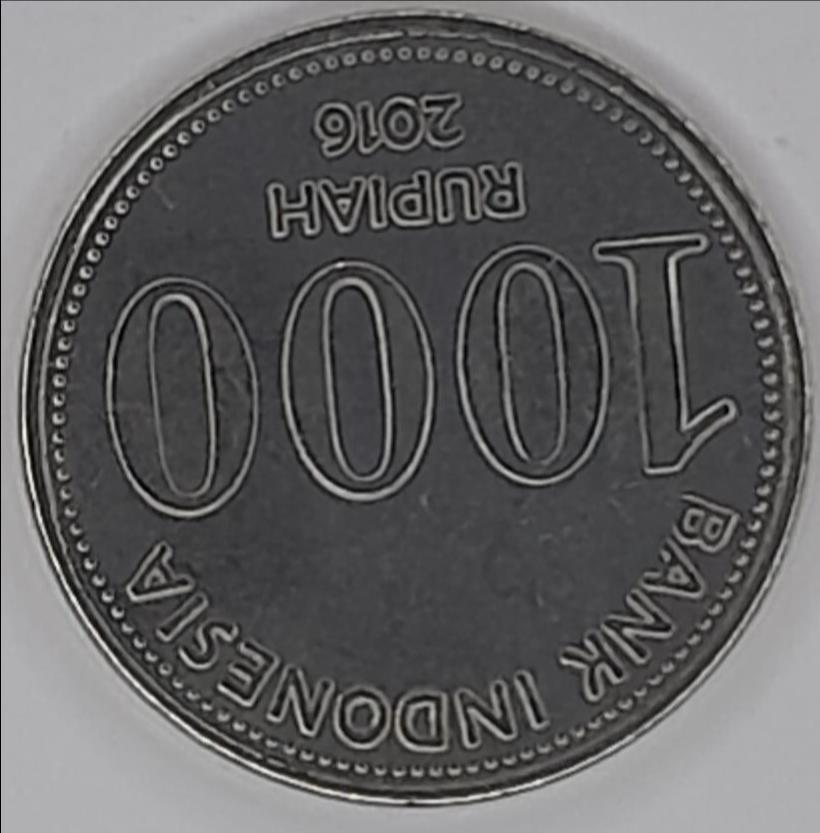coin_1000_e2016: (14, 16, 809, 833)
